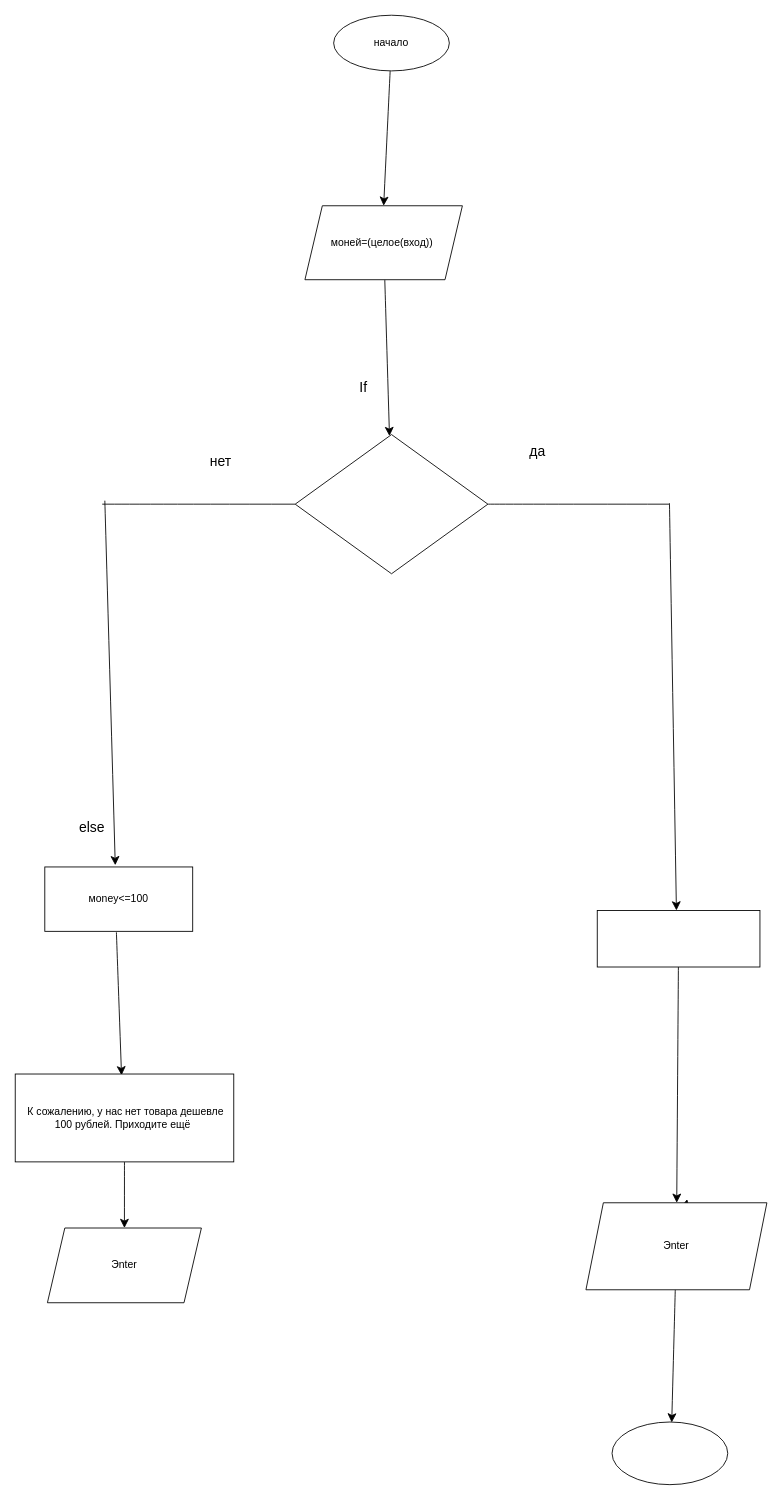
Image size: 782x1500. Some labels were removed from this diagram. Here are the shapes that lost their labels. From the top down, the centre of each, then its label:
At (391,504): "деньги>=100".
At (678,938): "Добро пожаловать, отправили каталог на вашу электронную почту".
At (669,1453): "кнец".
